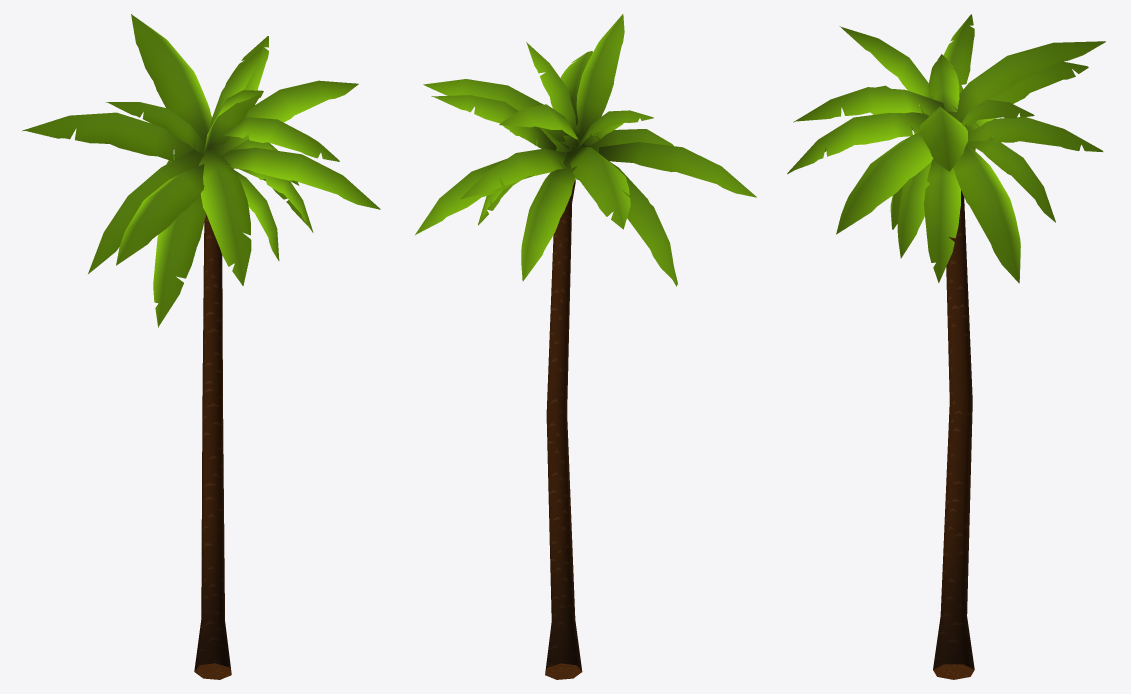
The model's file is Palm 1.FBX.
3 views of the same model, side by side, from view 1: azimuth 30°, elevation 25°; view 2: azimuth 150°, elevation 25°; view 3: azimuth 270°, elevation 25° (orthographic). The views are drawn at different scales.
Visible parts, largest first — view 1: Palm Tree; view 2: Palm Tree; view 3: Palm Tree.
Boxes of the visible parts, x1,y1,x2,y2 form: Palm Tree: [22, 14, 380, 679]; Palm Tree: [415, 14, 756, 679]; Palm Tree: [787, 14, 1105, 679].
Bounding box in the file's own units: 6.64 × 13.23 × 6.17.
1 material, 1 textured.
